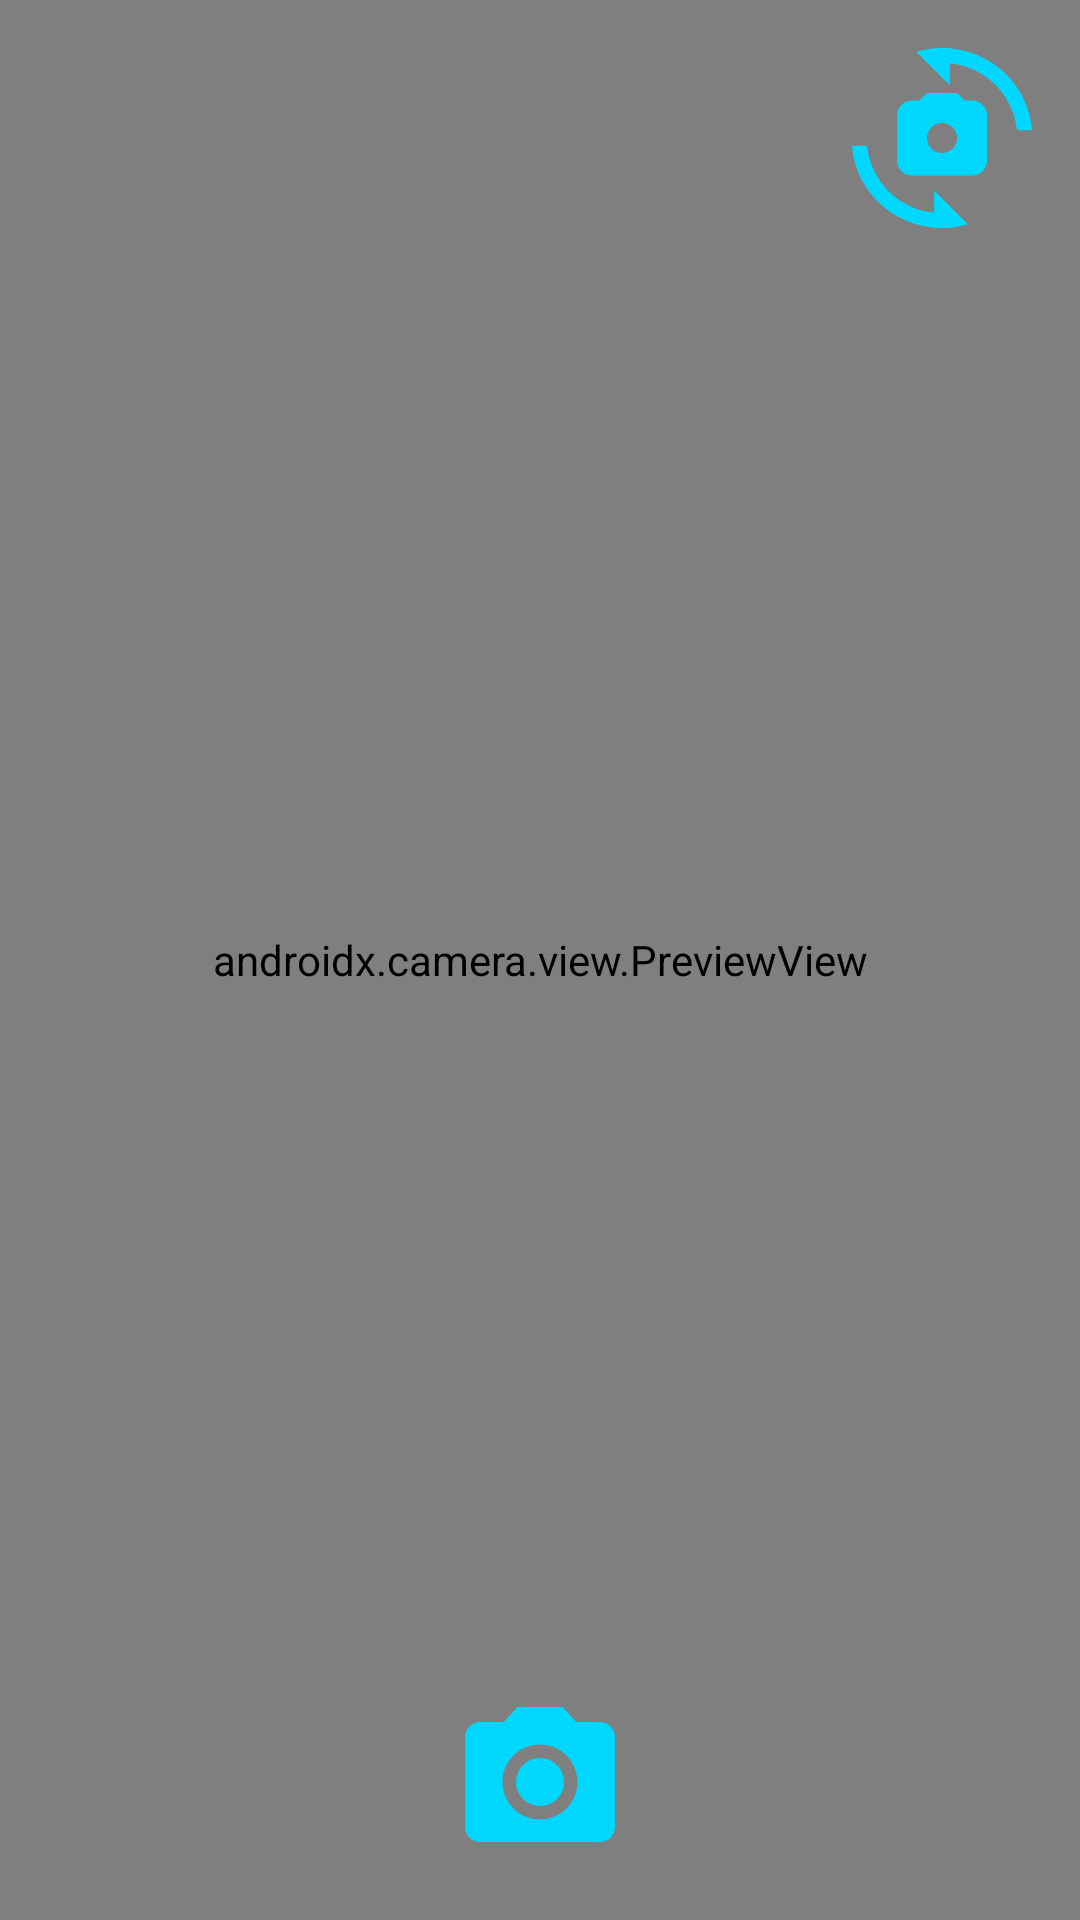

Screen size 1080 × 1920. Icon name, then its box in pixels as {"x1": x1, "y1": y1, "x2": x2, "y2": y2}:
cameraswitch: {"x1": 852, "y1": 48, "x2": 1032, "y2": 228}
